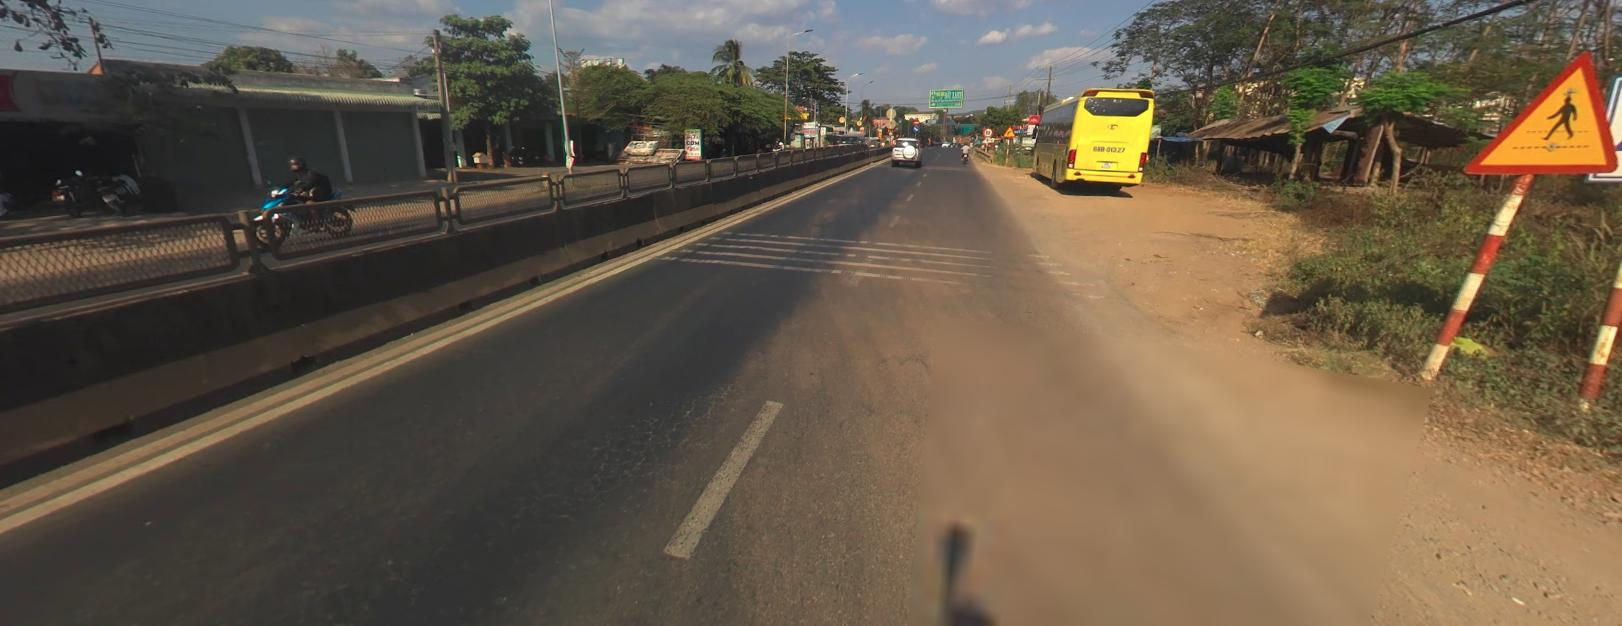Cam nguoc chieu: (912, 119, 918, 124), (913, 118, 918, 123)
Gioi han toc do: (982, 125, 992, 136), (982, 126, 992, 135)
Hieu lenh: (913, 125, 919, 130), (912, 125, 918, 130)
Nguy hiem: (1460, 50, 1618, 175), (1468, 53, 1617, 172), (1002, 124, 1017, 136), (1003, 125, 1014, 136)
